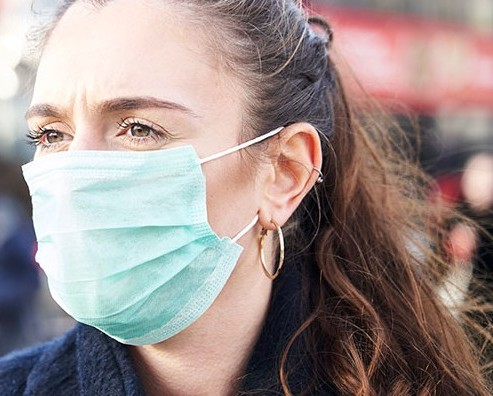with_mask: (15, 2, 344, 340)
